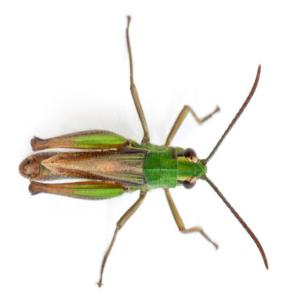locust: (12, 59, 260, 258)
